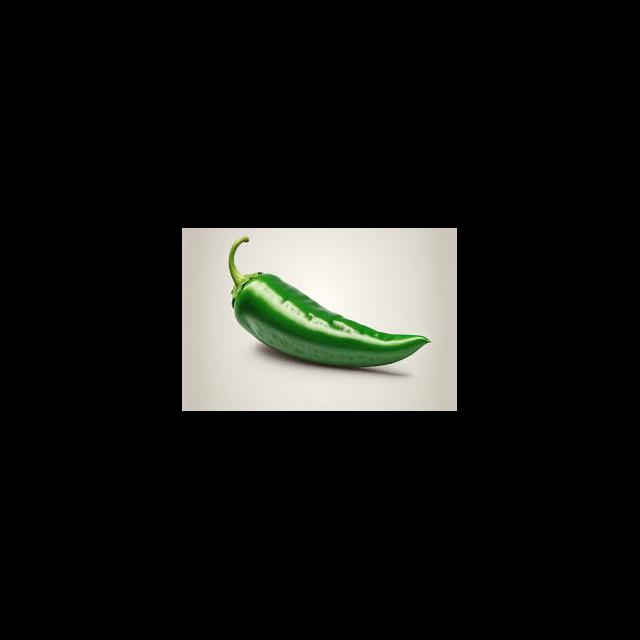chili_pepper: (233, 274, 431, 368)
